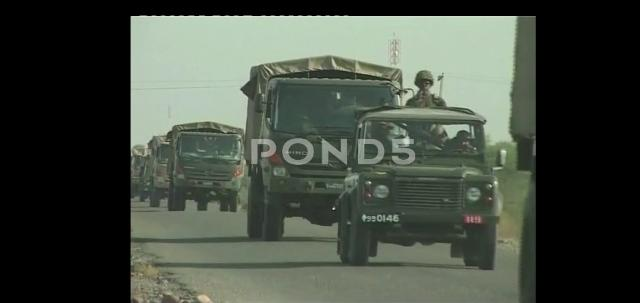plate: (360, 213, 403, 225)
